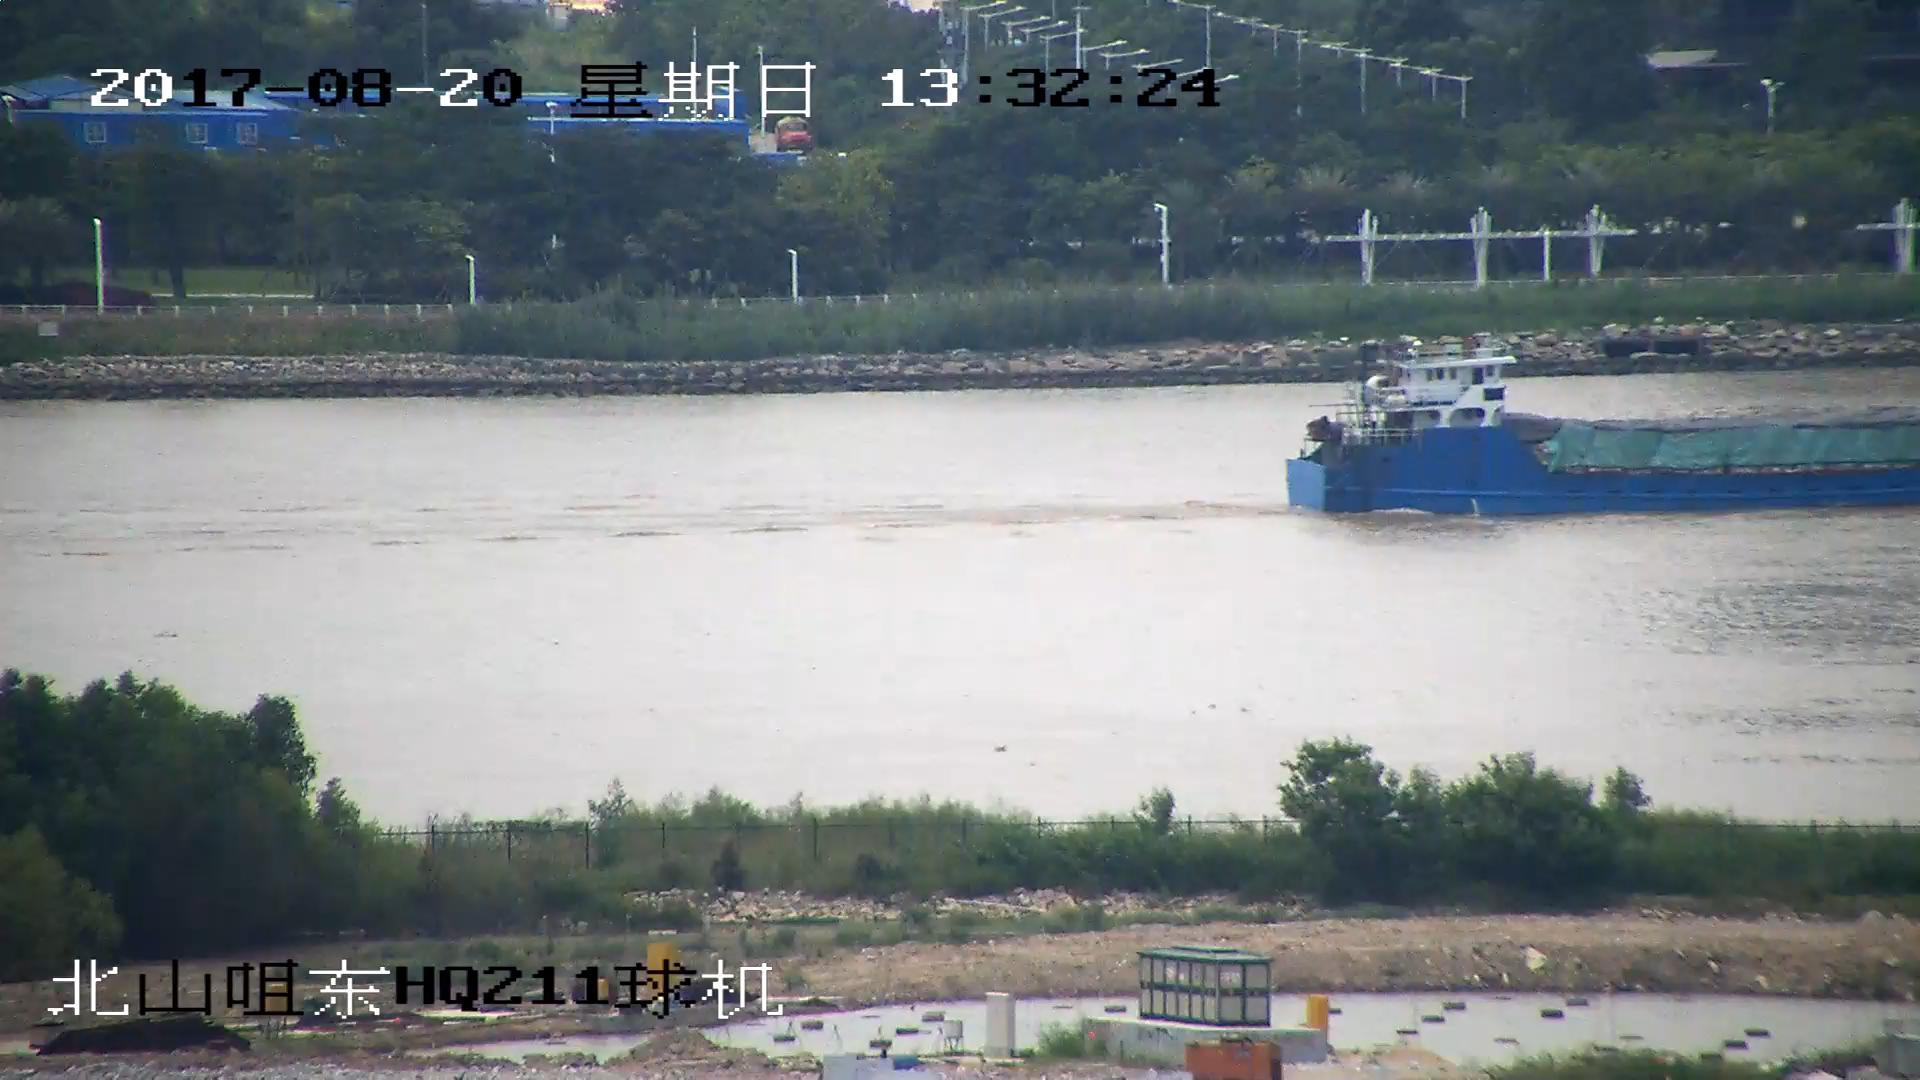Ship: (1286, 342, 1920, 517)
